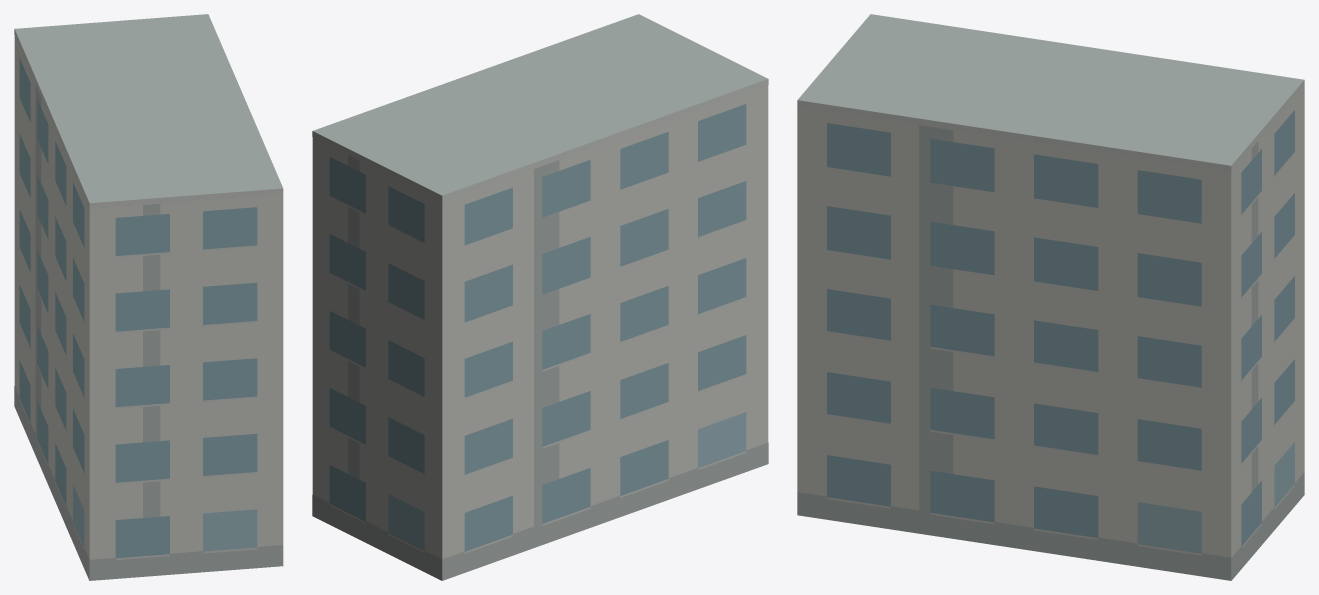
The model's file is residential-53ec4d73-3dd9-41d5-8166-267b74c8be58.glb.
3 renders of one model, left to right at view 1: azimuth 30°, elevation 25°; view 2: azimuth 150°, elevation 25°; view 3: azimuth 270°, elevation 25°, orthographic. The views are drawn at different scales.
Parts seen in each view (by area): view 1: residential-53ec4d73-3dd9-41d5-8166-267b74c8be58.tmp; view 2: residential-53ec4d73-3dd9-41d5-8166-267b74c8be58.tmp; view 3: residential-53ec4d73-3dd9-41d5-8166-267b74c8be58.tmp.
Part boxes in pixels (x1=…): residential-53ec4d73-3dd9-41d5-8166-267b74c8be58.tmp: x1=14, y1=14, x2=283, y2=580; residential-53ec4d73-3dd9-41d5-8166-267b74c8be58.tmp: x1=312, y1=14, x2=768, y2=580; residential-53ec4d73-3dd9-41d5-8166-267b74c8be58.tmp: x1=797, y1=14, x2=1304, y2=580.
Bounding box in the file's own units: 11.97 × 15.25 × 16.9.
